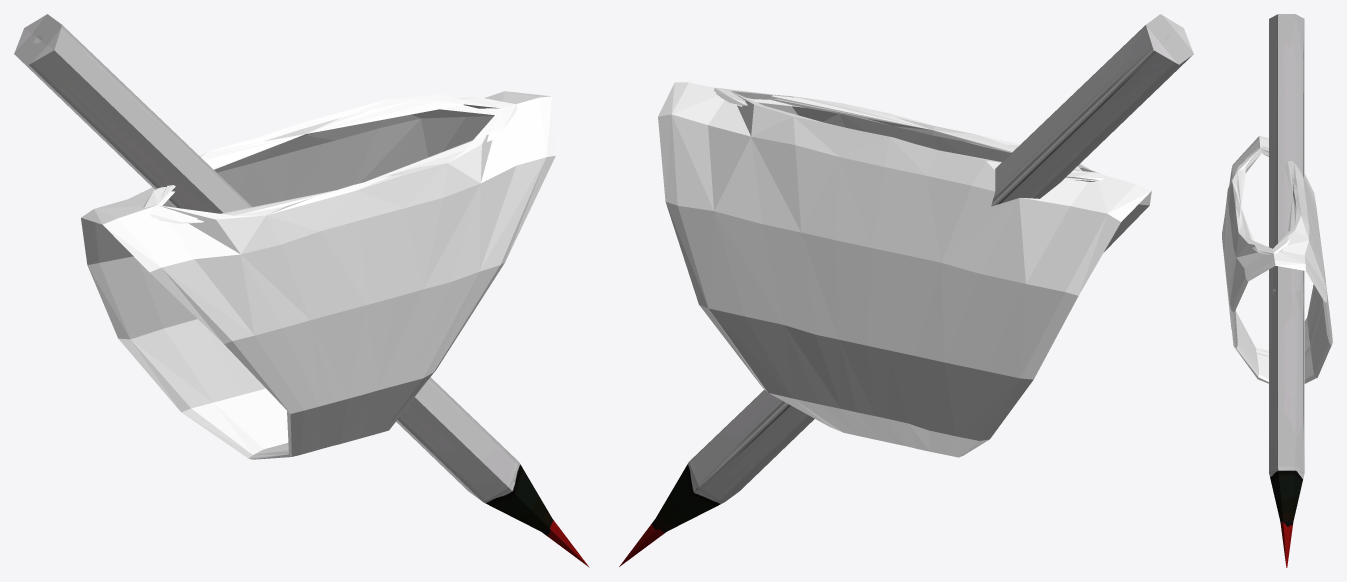
The model's file is UndPen.glb.
3 views of the same model, side by side, from view 1: azimuth 30°, elevation 25°; view 2: azimuth 150°, elevation 25°; view 3: azimuth 270°, elevation 25° (orthographic). The views are drawn at different scales.
Visible parts, largest first — view 1: UndPen; view 2: UndPen; view 3: UndPen.
Part boxes in pixels (<box>): UndPen: <box>14,14,589,567</box>; UndPen: <box>619,14,1193,566</box>; UndPen: <box>1222,14,1332,567</box>.
Size of the model in its own units: 30.67 by 35.02 by 8.79.
Materials: 1 (1 with a texture image).
